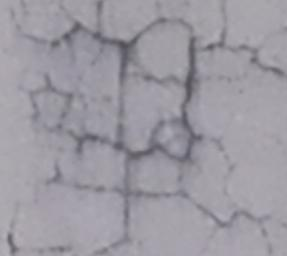fissura: (10, 2, 283, 256)
